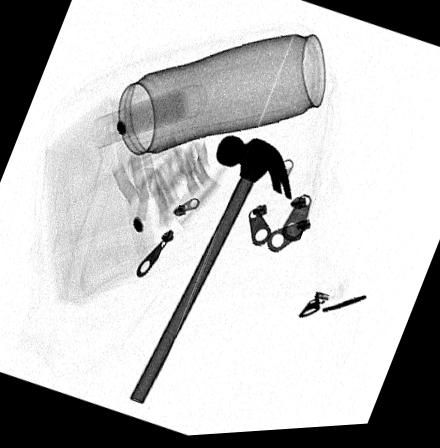Hammer: (129, 136, 292, 405)
